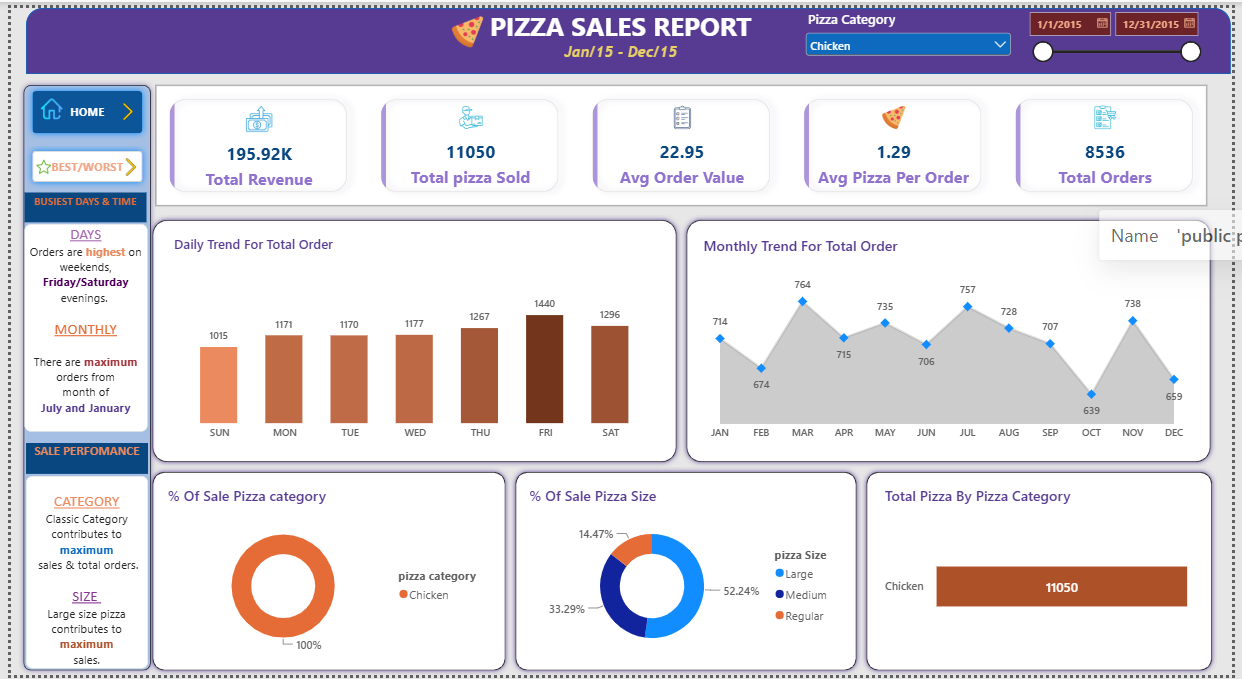

The page's visual inventory and layout, read from the dashboard file:
{"tool":"powerbi","page":{"name":"HOME","canvas":[1500,820],"ordinal":0},"visuals":[{"type":"cardVisual","fields":{"Data":["public pizza_sales.Total Revenue","public pizza_sales.Total pizza Sold","public pizza_sales.avg_amount_spent_per_order","public pizza_sales.Average Pizza Per Order","public pizza_sales.Total Orders"]},"box":[177,94.1,1298.5,150],"z":0},{"type":"shape","box":[17.8,0,1481.1,81.1],"z":1000},{"type":"textbox","box":[529.6,0,440.7,59],"z":2000},{"type":"textbox","box":[621.5,42.4,256.3,51.6],"z":3000},{"type":"image","box":[529.3,7.4,63.3,43.3],"z":4000},{"type":"shape","box":[167.8,254.5,656.5,309.8],"z":5000},{"type":"columnChart","title":"Daily Trend For Total Order","fields":{"Category":["public pizza_sales.Order Day"],"Y":["public pizza_sales.Total Orders"]},"box":[184.4,265.6,625.2,285.8],"z":6000},{"type":"shape","box":[824.3,254.5,656.5,309.8],"z":7000},{"type":"areaChart","title":"Monthly Trend For Total Order","fields":{"Category":["public pizza_sales.Order Month"],"Y":["public pizza_sales.Total Orders"]},"box":[835.4,265.6,630.7,285.8],"z":8000},{"type":"shape","box":[167.8,564.3,446.3,256.3],"z":9000},{"type":"shape","box":[614.1,564.3,431.5,256.3],"z":10000},{"type":"shape","box":[1045.6,564.3,437.1,256.3],"z":11000},{"type":"donutChart","title":"% Of Sale Pizza category","fields":{"Category":["public pizza_sales.pizza_category"],"Y":["public pizza_sales.Total Revenue"]},"box":[177.2,573.9,427.2,237],"z":12000},{"type":"donutChart","title":"% Of Sale Pizza Size","fields":{"Category":["public pizza_sales.pizza_size"],"Y":["public pizza_sales.Total Revenue"]},"box":[621.7,573.9,416.3,237],"z":13000},{"type":"funnel","title":"Total Pizza By Pizza Category","fields":{"Category":["public pizza_sales.pizza_category"],"Y":["public pizza_sales.Total pizza Sold"]},"box":[1057.7,573.2,408.5,236.6],"z":14000},{"type":"shape","box":[8.9,87.8,168.9,732.2],"z":15000},{"type":"textbox","box":[17,226.9,150,36.7],"z":16000},{"type":"textbox","box":[17,264.7,151.3,255.3],"z":17000},{"type":"textbox","box":[17.8,574.4,150,236.7],"z":18000},{"type":"textbox","box":[17.8,535.6,150,37.8],"z":19000},{"type":"slicer","fields":{"Values":["public pizza_sales.pizza_category"]},"box":[971.2,2.5,262.3,81.1],"z":19001},{"type":"slicer","fields":{"Values":["public pizza_sales.order_date"]},"box":[1245,0,221.2,73.8],"z":19002},{"type":"pageNavigator","box":[18.9,94.5,151.3,68.1],"z":19003},{"type":"pageNavigator","box":[18.9,168.3,151.3,54.8],"z":19004},{"type":"image","box":[7.4,111.1,85.2,26.9],"z":19005},{"type":"image","box":[136.8,178.3,21.7,33.6],"z":19006},{"type":"image","box":[132.1,111.3,21.7,33.6],"z":19007},{"type":"image","box":[30.7,161.4,17.9,65.7],"z":19008}]}

Visuals, with their boxes in screenshot pixels (x1, y1, x2, y2), scaled from the page's 1500x820 canvas onto the 1242x679 screenshot:
cardVisual - public pizza_sales.Total Revenue x public pizza_sales.Total pizza Sold: [left=147, top=78, right=1222, bottom=202]
shape: [left=15, top=0, right=1241, bottom=67]
textbox: [left=439, top=0, right=803, bottom=49]
textbox: [left=515, top=35, right=727, bottom=78]
image: [left=438, top=6, right=491, bottom=42]
shape: [left=139, top=211, right=683, bottom=467]
"Daily Trend For Total Order" columnChart: [left=153, top=220, right=670, bottom=457]
shape: [left=683, top=211, right=1226, bottom=467]
"Monthly Trend For Total Order" areaChart: [left=692, top=220, right=1214, bottom=457]
shape: [left=139, top=467, right=508, bottom=678]
shape: [left=508, top=467, right=866, bottom=678]
shape: [left=866, top=467, right=1228, bottom=678]
"% Of Sale Pizza category" donutChart: [left=147, top=475, right=500, bottom=671]
"% Of Sale Pizza Size" donutChart: [left=515, top=475, right=859, bottom=671]
"Total Pizza By Pizza Category" funnel: [left=876, top=475, right=1214, bottom=671]
shape: [left=7, top=73, right=147, bottom=678]
textbox: [left=14, top=188, right=138, bottom=218]
textbox: [left=14, top=219, right=139, bottom=431]
textbox: [left=15, top=476, right=139, bottom=672]
textbox: [left=15, top=444, right=139, bottom=475]
slicer - public pizza_sales.pizza_category: [left=804, top=2, right=1021, bottom=69]
slicer - public pizza_sales.order_date: [left=1031, top=0, right=1214, bottom=61]
pageNavigator: [left=16, top=78, right=141, bottom=135]
pageNavigator: [left=16, top=139, right=141, bottom=185]
image: [left=6, top=92, right=77, bottom=114]
image: [left=113, top=148, right=131, bottom=175]
image: [left=109, top=92, right=127, bottom=120]
image: [left=25, top=134, right=40, bottom=188]
